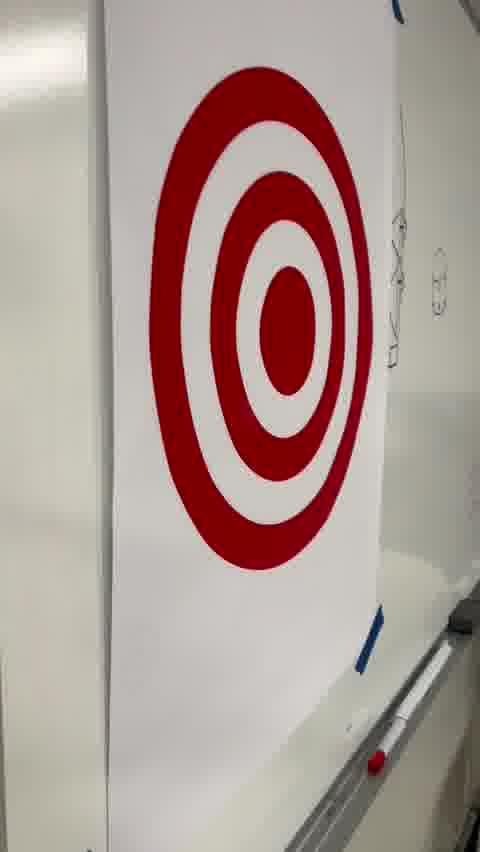target_red: (147, 66, 374, 569)
